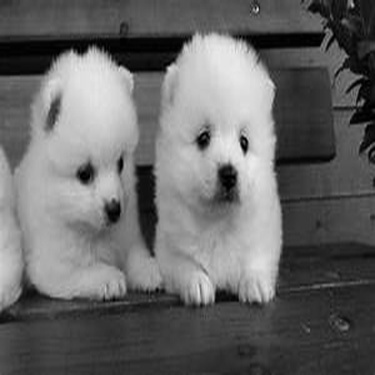dog: (141, 27, 295, 318), (8, 40, 170, 315), (1, 135, 30, 332)
